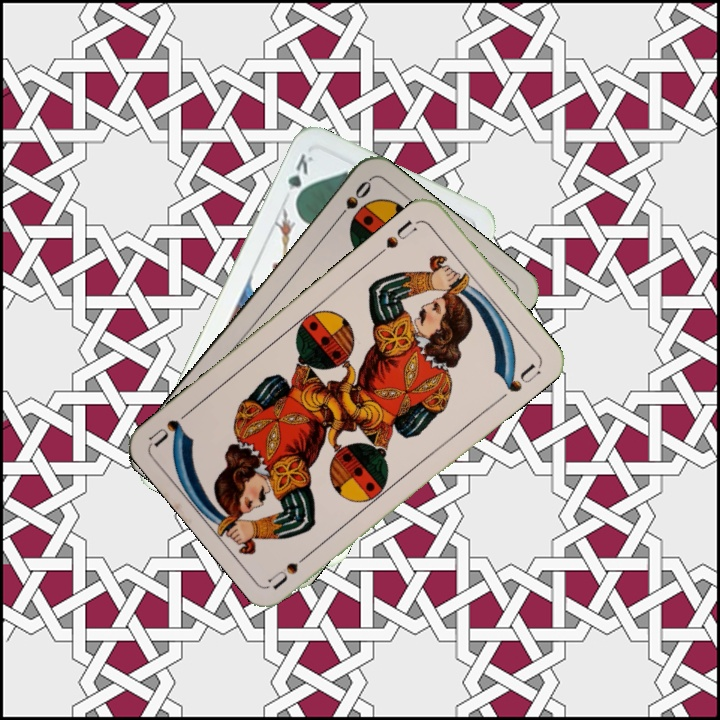GK: (283, 149, 316, 207)
SO: (330, 176, 374, 226)
SU: (265, 545, 317, 591), (373, 216, 420, 259)
